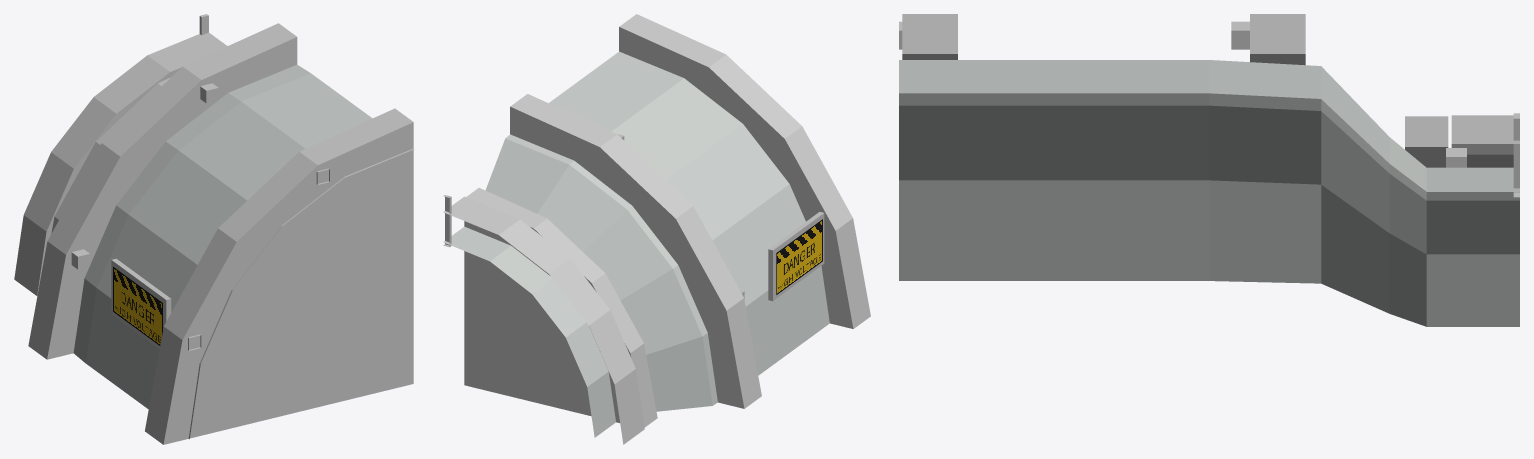
The model's file is cell_80.obj.
The picture shows the model from 3 angles, left to right: view 1: azimuth 30°, elevation 25°; view 2: azimuth 150°, elevation 25°; view 3: azimuth 270°, elevation 25°; orthographic projection. The views are drawn at different scales.
Bounding box in the file's own units: 0.695 × 0.695 × 1.
